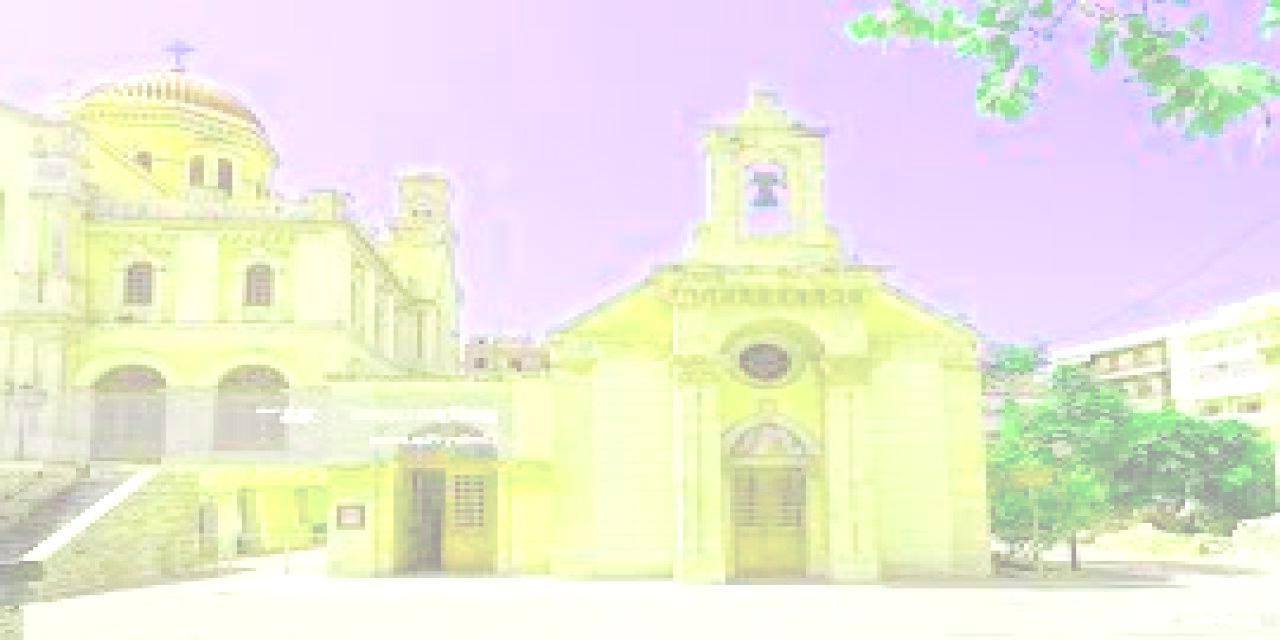Agios Minas: (1, 46, 989, 596)
